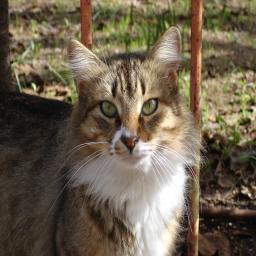catnose: (119, 131, 140, 155)
